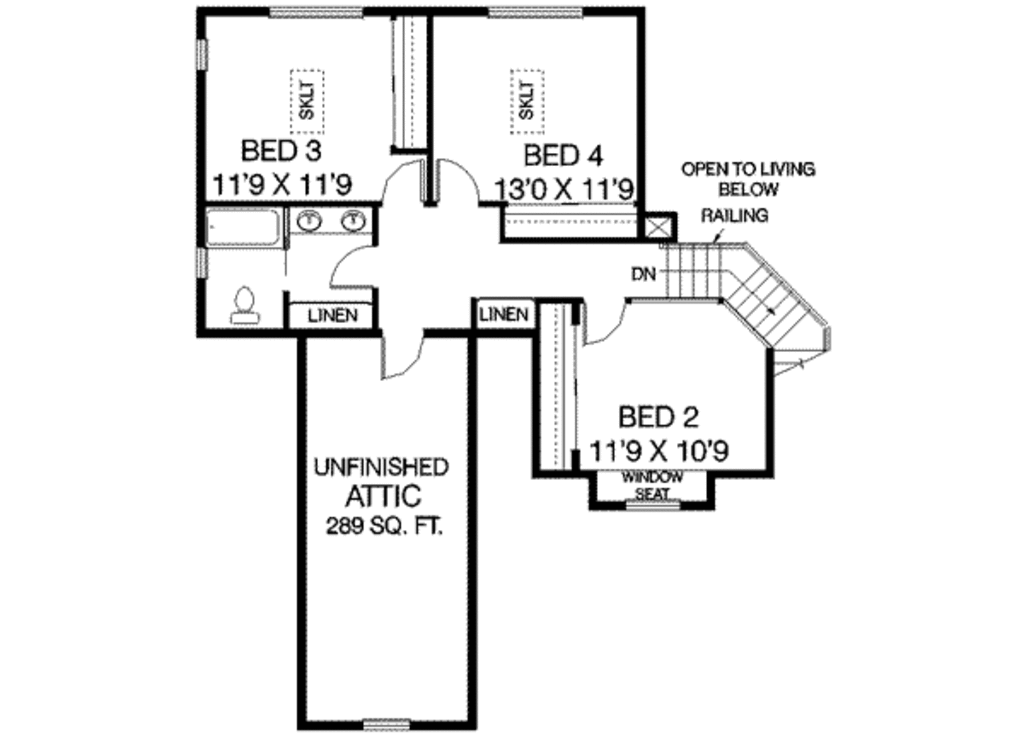door: (325, 235, 380, 292), (575, 299, 627, 349), (380, 329, 428, 383), (436, 152, 482, 207), (375, 154, 424, 205)
large_sink: (218, 276, 264, 326)
small_sink: (285, 199, 377, 235)
stairs: (670, 244, 835, 377)
tub: (204, 203, 290, 257)
window: (485, 3, 585, 21), (267, 6, 366, 18), (626, 496, 686, 512), (357, 714, 411, 731), (191, 249, 209, 279), (192, 40, 207, 71)
